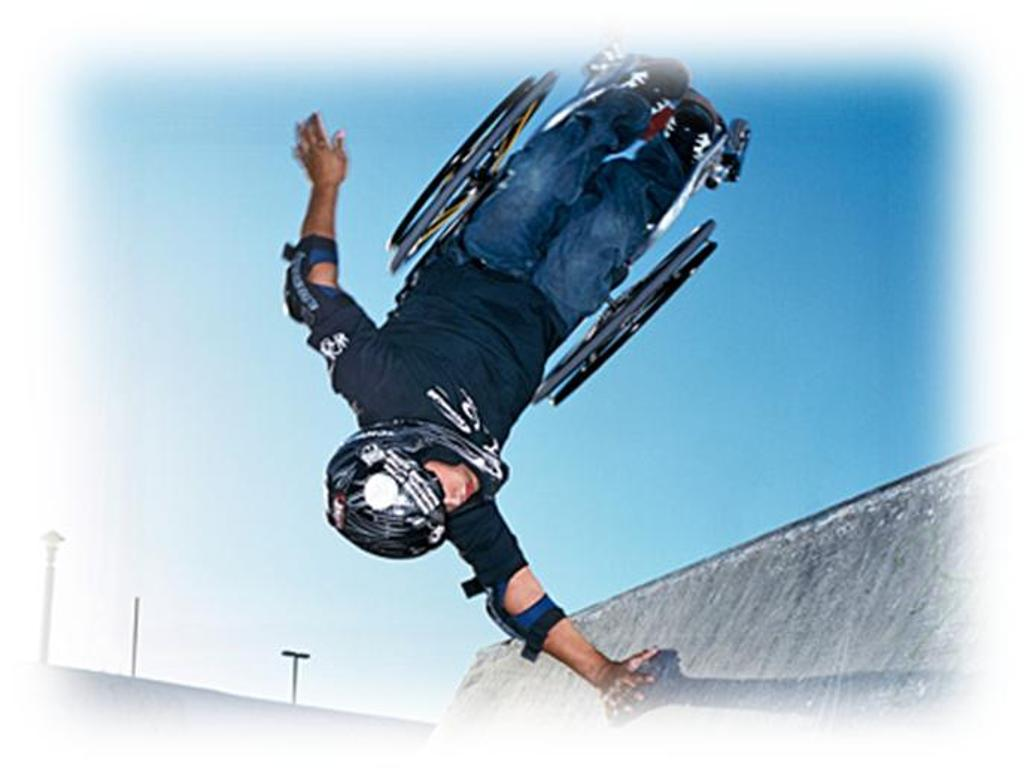face: (379, 461, 479, 529)
